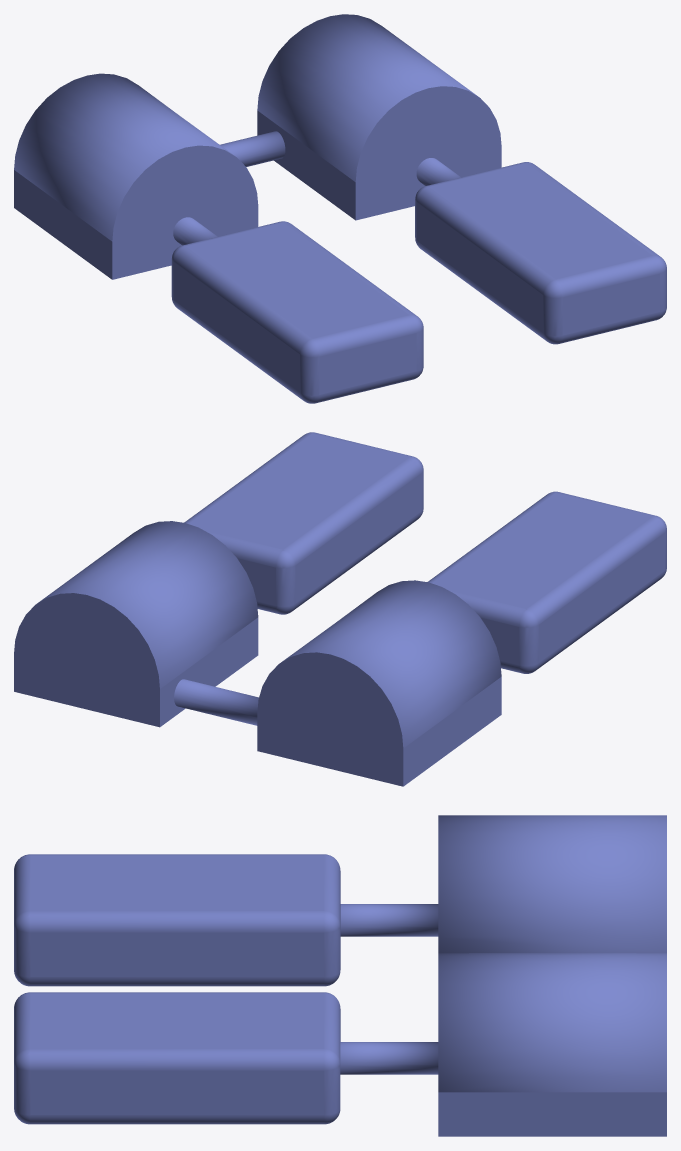
The model's file is MezzanineOverheadTanks_stainlessSteel.dae.
3 renders of one model, top to bottom at view 1: azimuth 30°, elevation 25°; view 2: azimuth 150°, elevation 25°; view 3: azimuth 270°, elevation 25°, orthographic. The views are drawn at different scales.
Parts seen in each view (by area): view 1: MezzanineOverheadTanks_stainlessSteel.001; view 2: MezzanineOverheadTanks_stainlessSteel.001; view 3: MezzanineOverheadTanks_stainlessSteel.001.
Boxes of the visible parts, <box> form: MezzanineOverheadTanks_stainlessSteel.001: <box>14,14,666,403</box>; MezzanineOverheadTanks_stainlessSteel.001: <box>14,432,666,786</box>; MezzanineOverheadTanks_stainlessSteel.001: <box>14,815,666,1136</box>.
Size of the model in its own units: 3.2 by 4 by 0.9.
